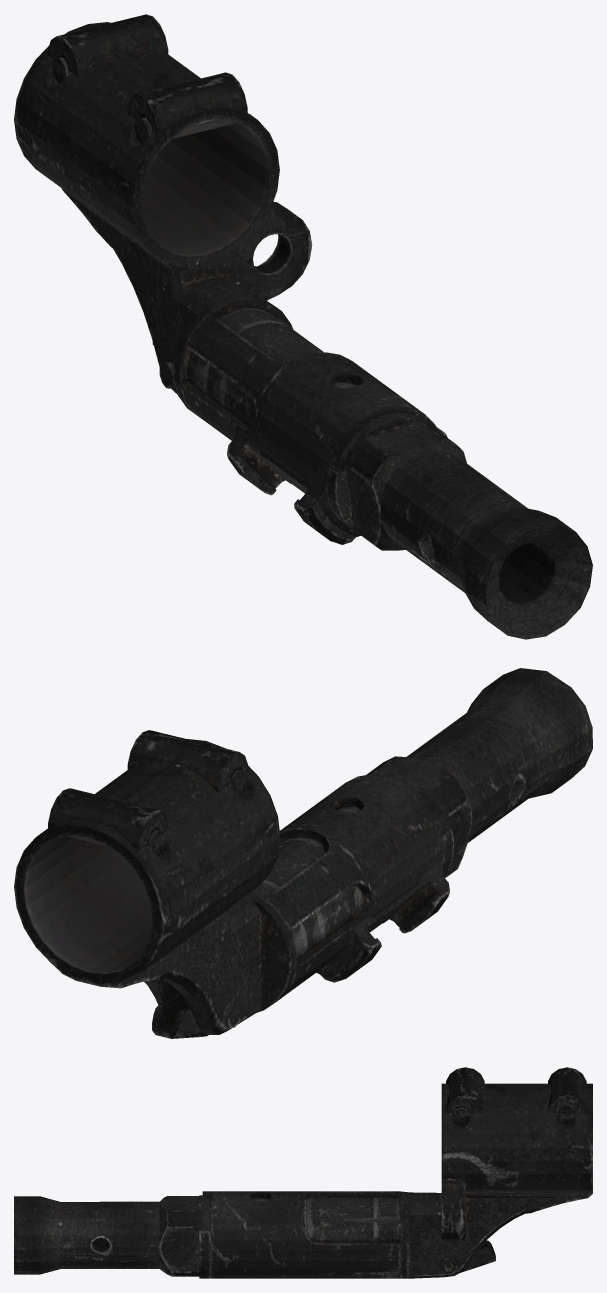
3 renders of one model, top to bottom at view 1: azimuth 30°, elevation 25°; view 2: azimuth 150°, elevation 25°; view 3: azimuth 270°, elevation 25°, orthographic. The views are drawn at different scales.
Visible parts, largest first — view 1: TW_5c471c842e221615214259b5_PZ_Import; view 2: TW_5c471c842e221615214259b5_PZ_Import; view 3: TW_5c471c842e221615214259b5_PZ_Import.
Part boxes in pixels (left/top/right/bottom): TW_5c471c842e221615214259b5_PZ_Import: left=14, top=14, right=592, bottom=639; TW_5c471c842e221615214259b5_PZ_Import: left=14, top=668, right=592, bottom=1038; TW_5c471c842e221615214259b5_PZ_Import: left=14, top=1067, right=592, bottom=1278.
Bounding box in the file's own units: 0.0144 × 0.0624 × 0.0239.
1 material, 1 textured.
